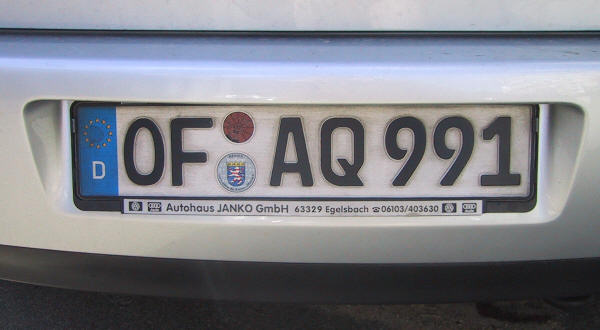license_plate: (71, 100, 533, 201)
